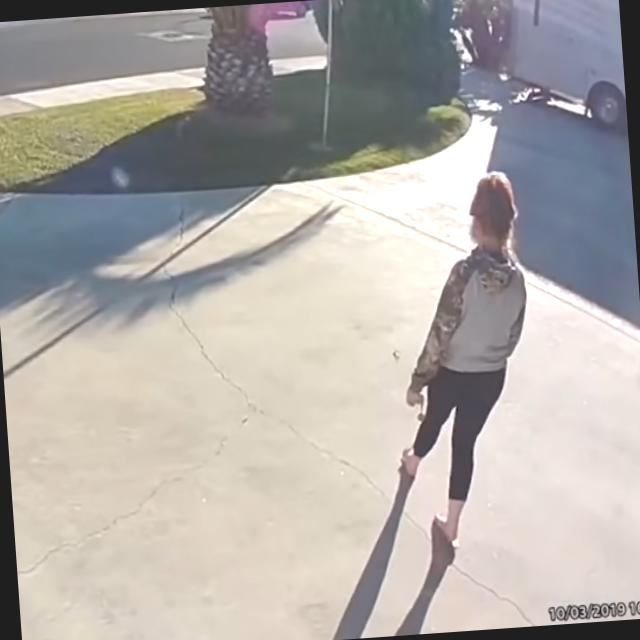person: (379, 167, 544, 550)
